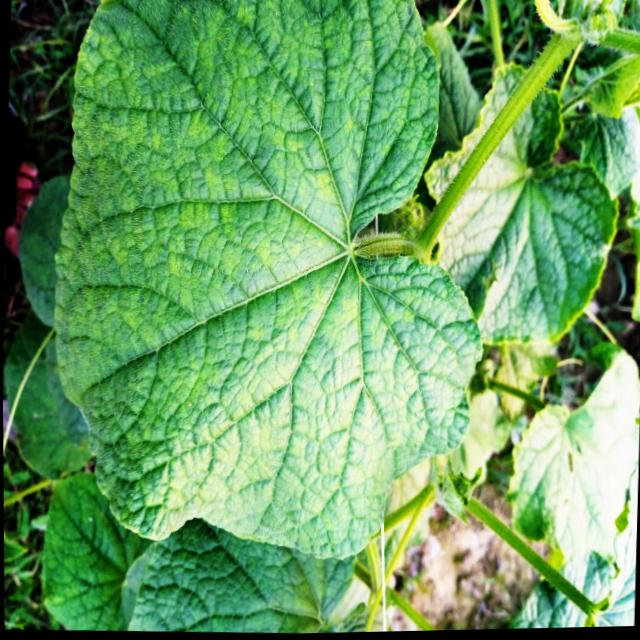Fresh-Leaf: (421, 64, 620, 345), (119, 516, 367, 632)
